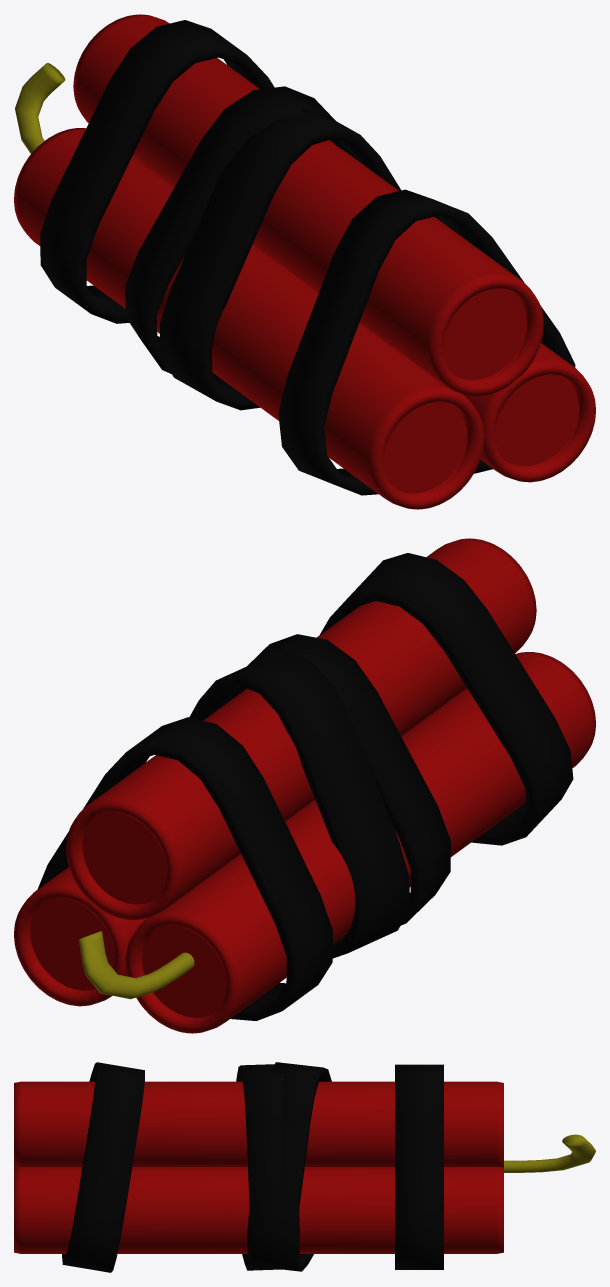
File: Dynamite.fbx
3 renders of one model, top to bottom at view 1: azimuth 30°, elevation 25°; view 2: azimuth 150°, elevation 25°; view 3: azimuth 270°, elevation 25°, orthographic. The views are drawn at different scales.
Visible parts, largest first — view 1: Dynamite; view 2: Dynamite; view 3: Dynamite.
Part boxes in pixels (x1=…): Dynamite: x1=14, y1=14, x2=595, y2=509; Dynamite: x1=14, y1=538, x2=595, y2=1033; Dynamite: x1=14, y1=1062, x2=595, y2=1272.
Bounding box in the file's own units: 184 × 174 × 510.
